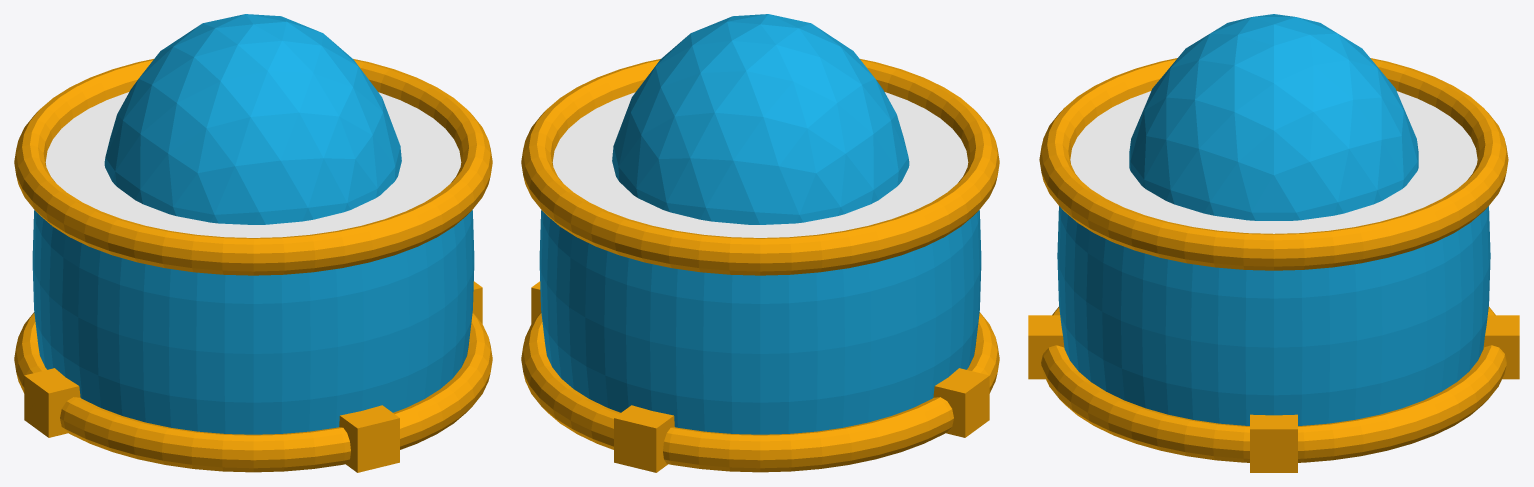
Rendered from Space_House_Lvl_1.fbx.
3 views of the same model, side by side, from view 1: azimuth 30°, elevation 25°; view 2: azimuth 150°, elevation 25°; view 3: azimuth 270°, elevation 25° (orthographic). The views are drawn at different scales.
Visible parts, largest first — view 1: Icosphere; view 2: Icosphere; view 3: Icosphere.
Boxes of the visible parts, x1,y1,x2,y2 form: Icosphere: (14,14,492,472); Icosphere: (521,14,999,472); Icosphere: (1028,14,1519,472).
Bounding box in the file's own units: 102 × 79.2 × 102.
